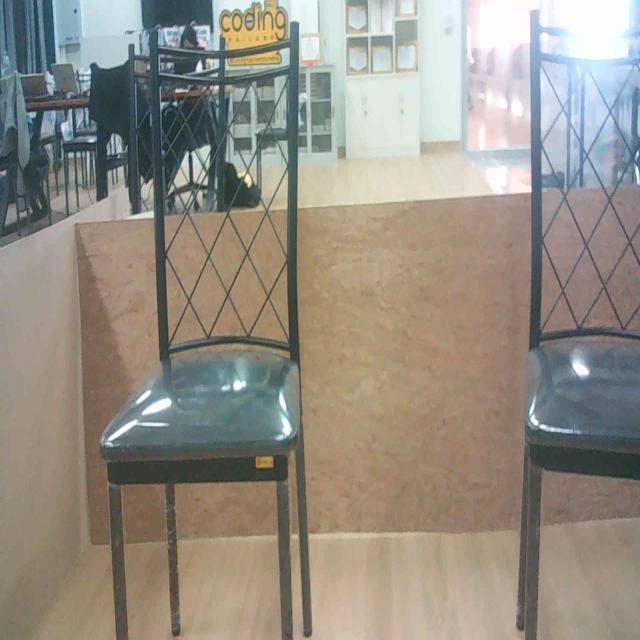emtpy: (98, 8, 340, 640), (519, 8, 639, 640)
